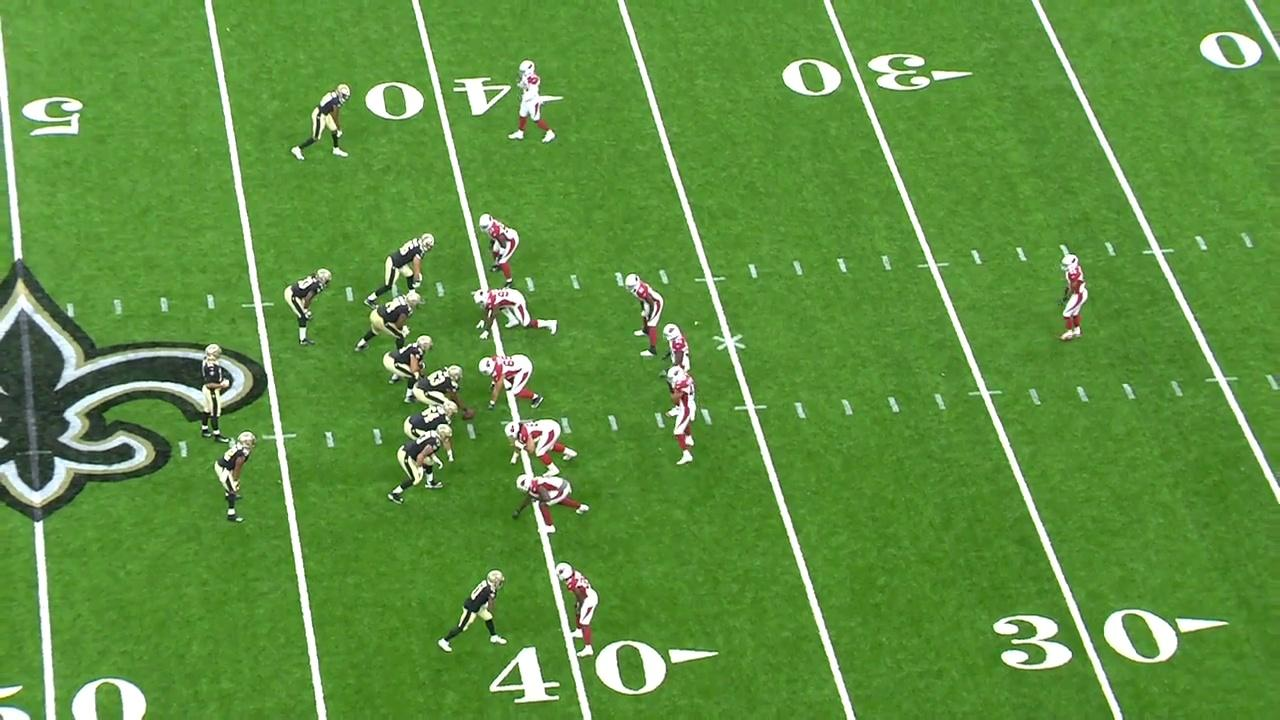player: (437, 565, 509, 655), (363, 231, 437, 311), (386, 423, 454, 506), (288, 81, 355, 163), (509, 473, 591, 537), (279, 264, 336, 349), (472, 285, 559, 340), (506, 58, 559, 145), (212, 429, 260, 525), (553, 562, 600, 660), (504, 417, 579, 477), (353, 291, 423, 355), (477, 353, 546, 412), (411, 363, 478, 423), (402, 397, 460, 465), (664, 363, 701, 467), (381, 333, 435, 404), (197, 340, 233, 446), (624, 271, 665, 358), (479, 212, 521, 289), (659, 321, 692, 419), (1055, 251, 1090, 343)
